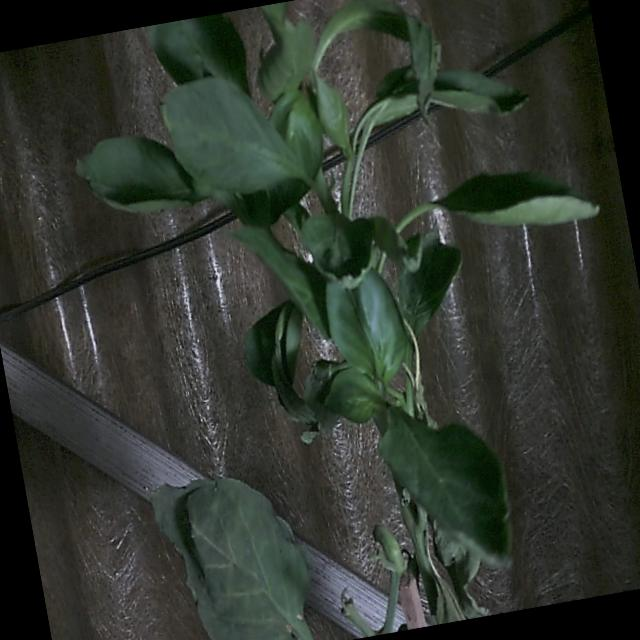Leaf: (152, 479, 313, 639), (380, 408, 510, 564), (162, 77, 305, 194), (76, 136, 200, 212), (437, 172, 599, 226), (147, 13, 248, 93)
